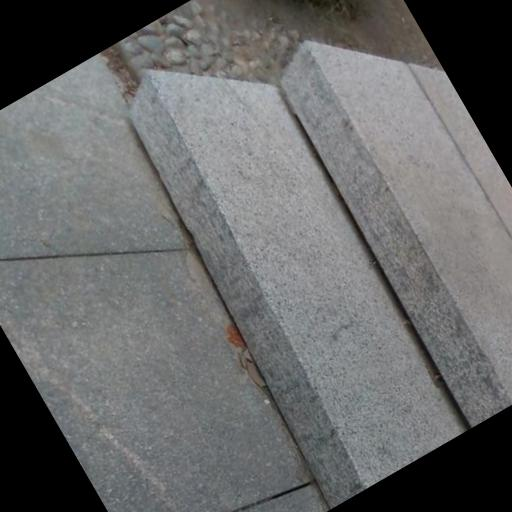stairs: (131, 42, 511, 508)
